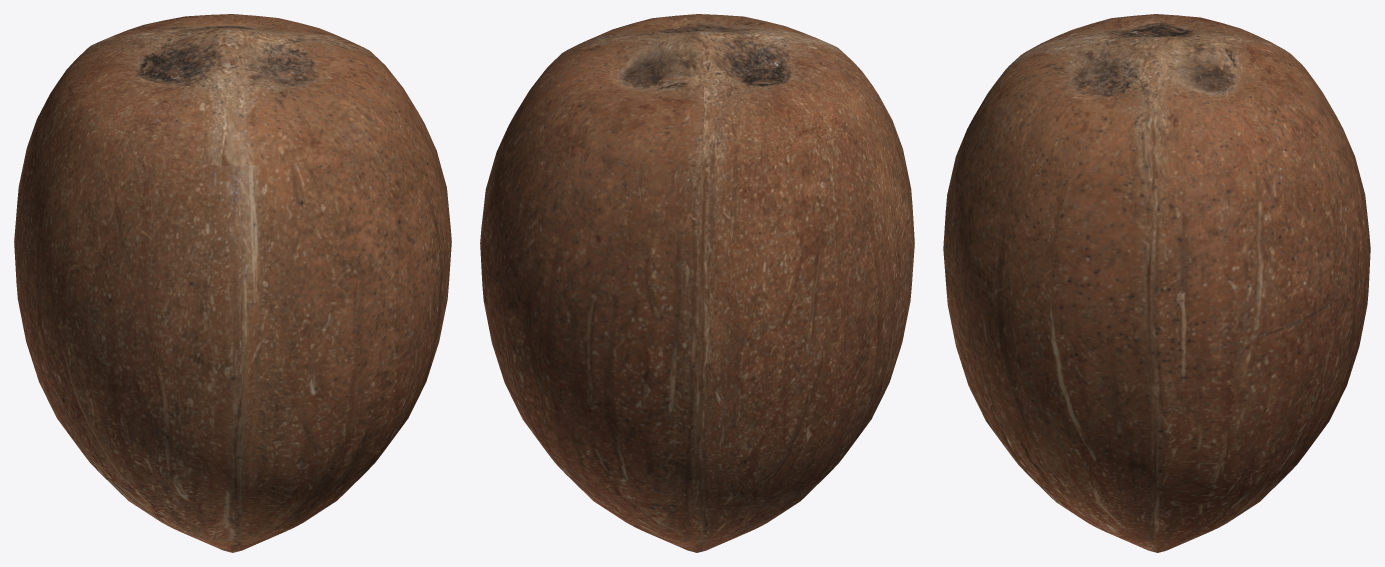
3 views of the same model, side by side, from view 1: azimuth 30°, elevation 25°; view 2: azimuth 150°, elevation 25°; view 3: azimuth 270°, elevation 25° (orthographic). The views are drawn at different scales.
Parts seen in each view (by area): view 1: pSphere4; view 2: pSphere4; view 3: pSphere4.
Boxes of the visible parts, left/top/right/bottom form: pSphere4: left=14, top=14, right=451, bottom=552; pSphere4: left=480, top=14, right=914, bottom=552; pSphere4: left=943, top=14, right=1370, bottom=552.
Bounding box in the file's own units: 1.92 × 2.48 × 1.88.
Materials: 1 (1 with a texture image).
